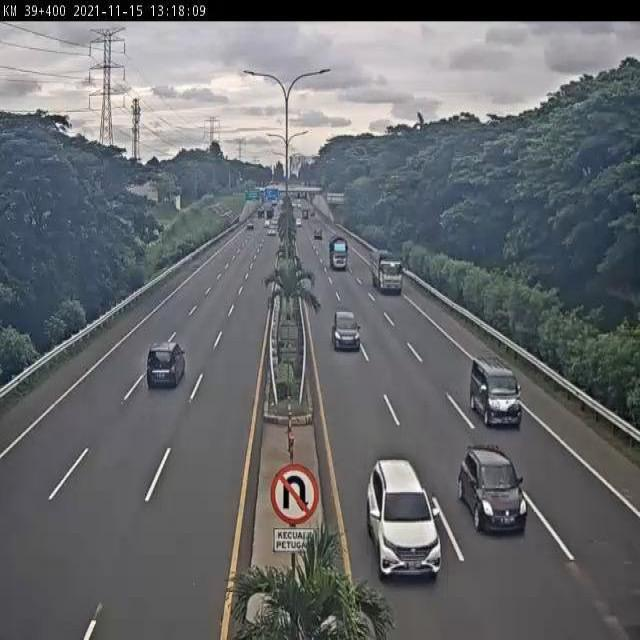car: (366, 455, 443, 581), (455, 445, 527, 536), (468, 356, 523, 431), (146, 340, 188, 391), (331, 308, 361, 352)
truck: (369, 248, 404, 296)
